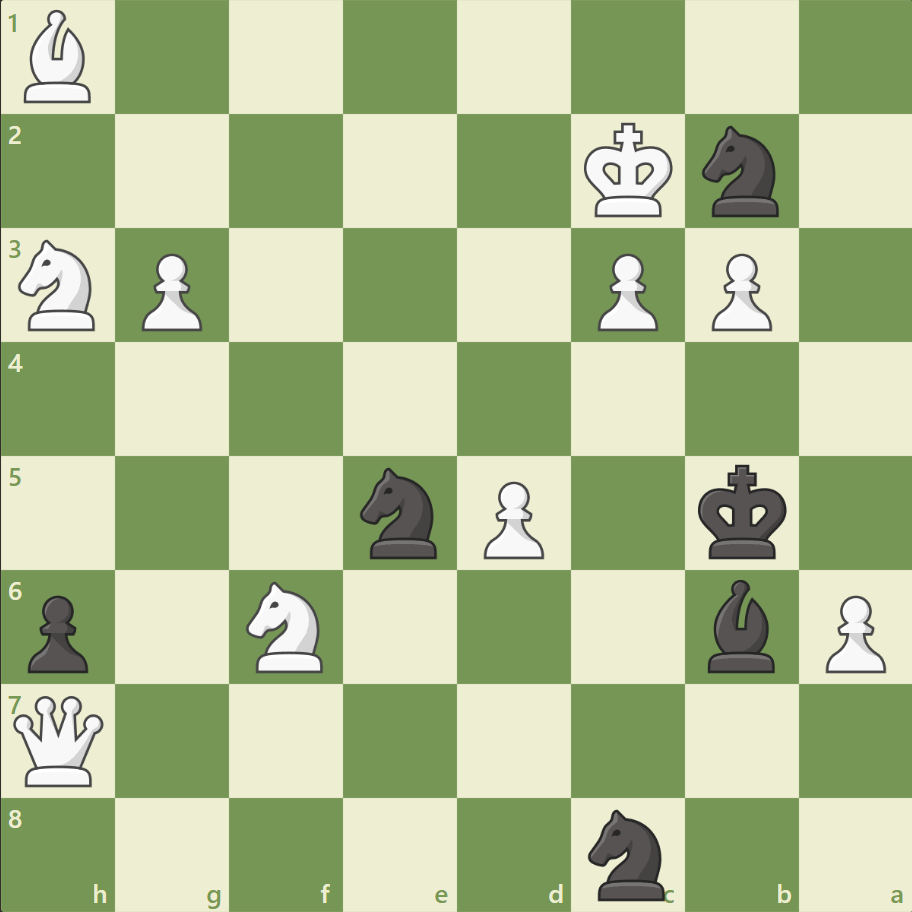B: (17, 6, 101, 109)
K: (579, 117, 679, 225)
N: (11, 234, 108, 337), (238, 575, 335, 677)
P: (474, 473, 549, 564), (701, 246, 776, 337), (133, 246, 208, 337), (815, 586, 889, 677), (588, 246, 662, 337)
Q: (10, 690, 109, 789)
b: (698, 574, 782, 676)
k: (692, 458, 792, 566)
n: (351, 461, 449, 564), (579, 802, 676, 904), (692, 121, 789, 223)
p: (20, 586, 95, 677)
